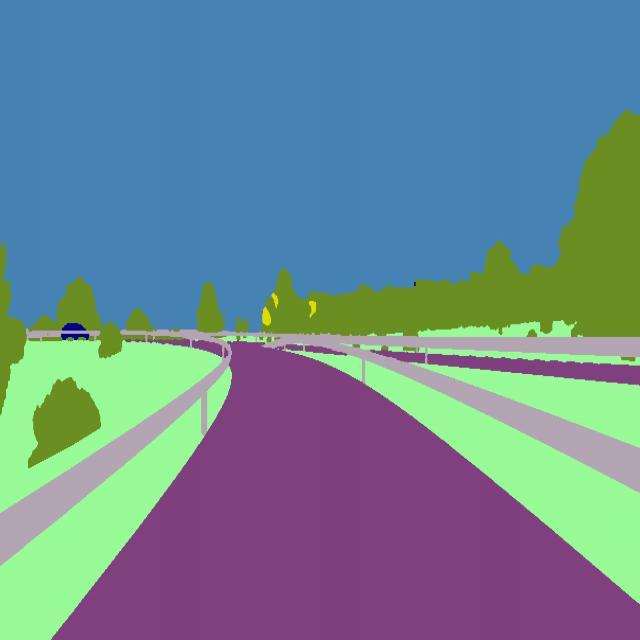safe: (50, 315, 93, 346)
